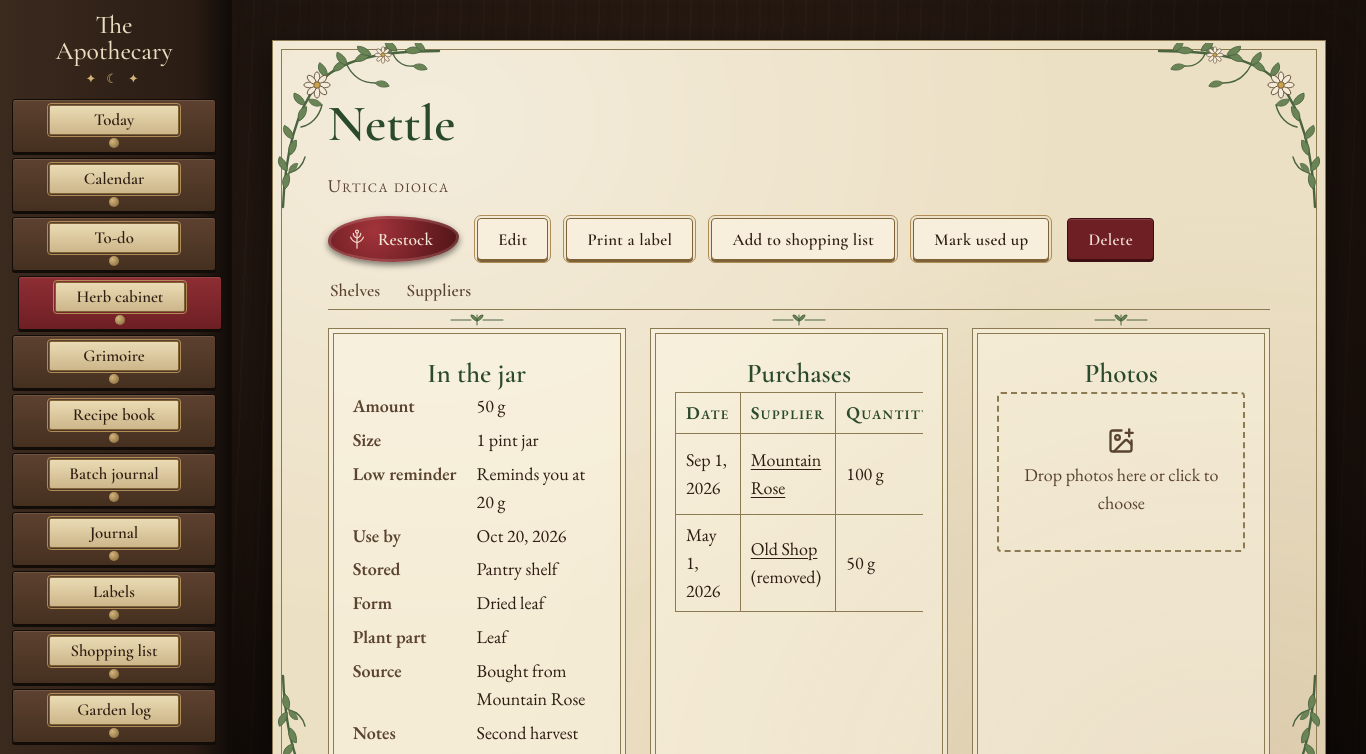
Scenario: adds the jar to the shopping list with a link to the list
What coordinates should you click on to do the following:
click the button "Add to shopping list"
I would click on:
 (803, 239)
Its box is [711,218,895,260].
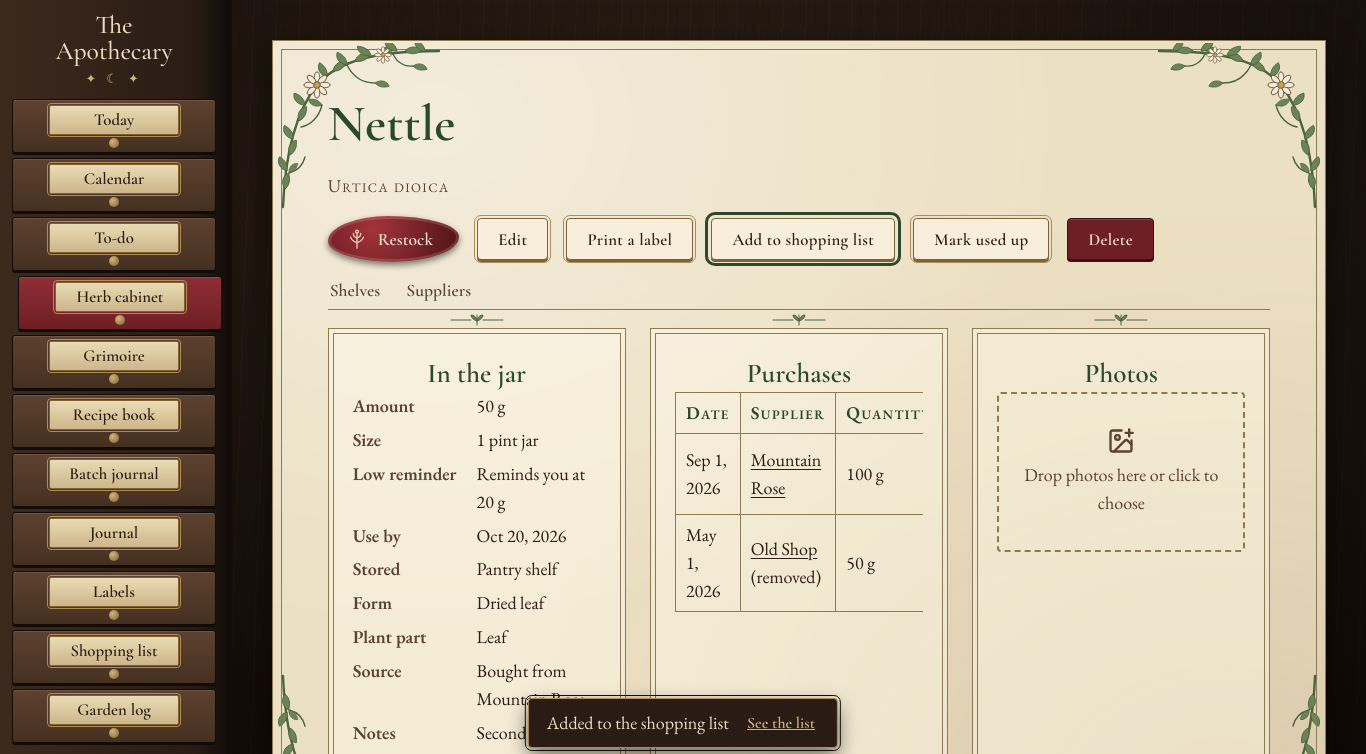
Check: the text "Added to the shopping list" is shown, box [547,709,729,737]
Check: the button "See the list" is shown, box [743,709,819,737]
